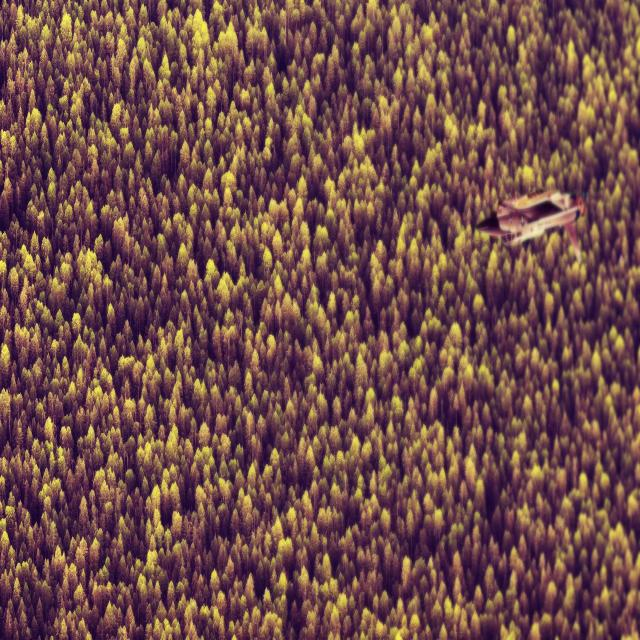airplane: (474, 188, 586, 262)
